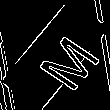M_NW: (17, 22, 93, 88)
